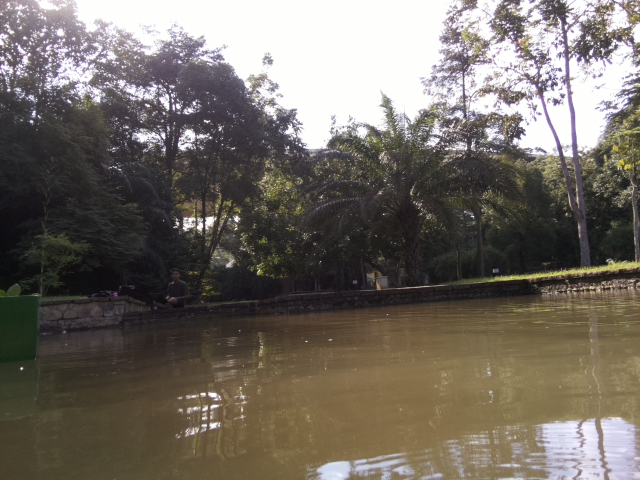obstacle: (1, 292, 44, 363)
